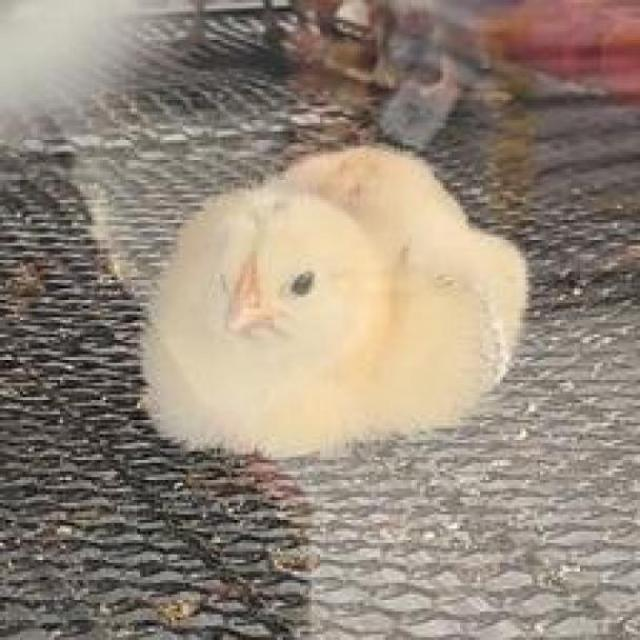Chicken: (128, 134, 579, 490)
